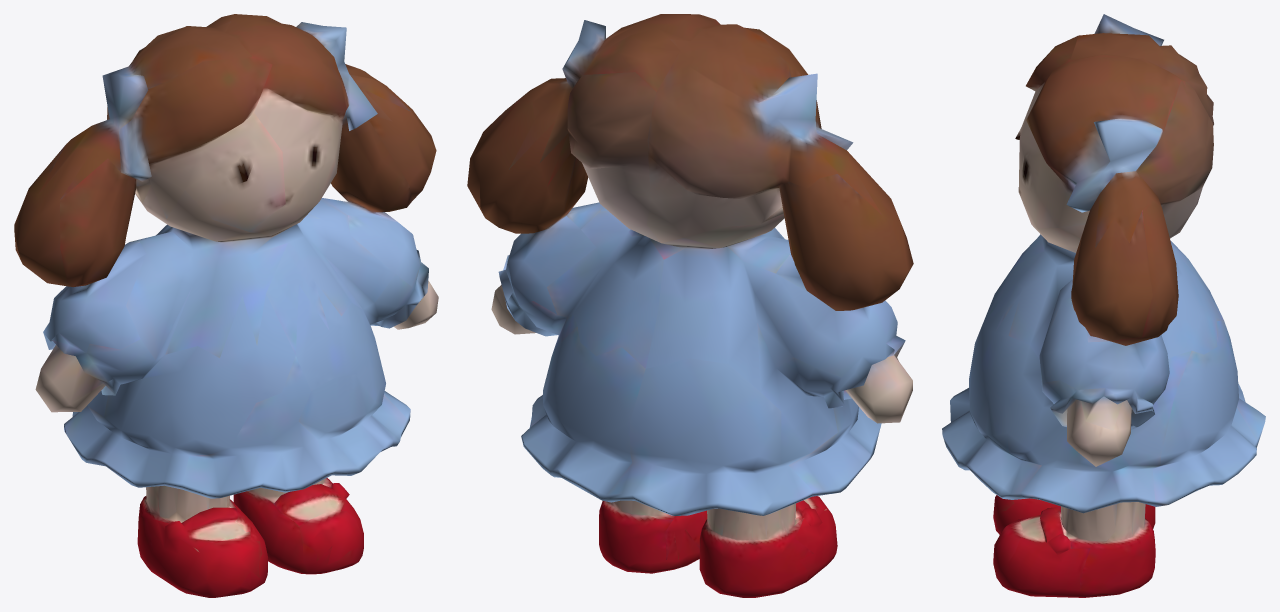
Rendered from toy_doll.glb.
3 views of the same model, side by side, from view 1: azimuth 30°, elevation 25°; view 2: azimuth 150°, elevation 25°; view 3: azimuth 270°, elevation 25° (orthographic). The views are drawn at different scales.
Parts seen in each view (by area): view 1: tripo_node_df23c10c-13e2-4e09-a9d8-1bdf30f8d72f; view 2: tripo_node_df23c10c-13e2-4e09-a9d8-1bdf30f8d72f; view 3: tripo_node_df23c10c-13e2-4e09-a9d8-1bdf30f8d72f.
Part boxes in pixels (<box>): tripo_node_df23c10c-13e2-4e09-a9d8-1bdf30f8d72f: <box>14,14,438,597</box>; tripo_node_df23c10c-13e2-4e09-a9d8-1bdf30f8d72f: <box>467,14,913,597</box>; tripo_node_df23c10c-13e2-4e09-a9d8-1bdf30f8d72f: <box>942,14,1265,597</box>.
Size of the model in its own units: 0.4172 by 0.5 by 0.2896.
Materials: 1 (1 with a texture image).
